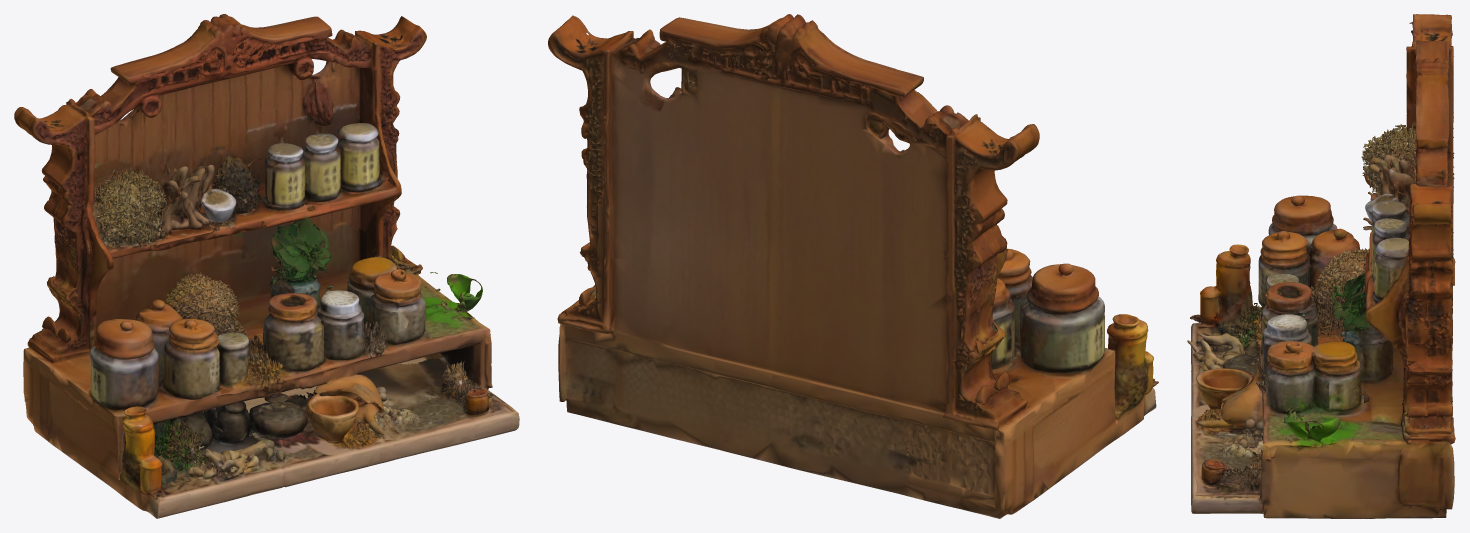
File: bq_apothecary.hd.glb
3 views of the same model, side by side, from view 1: azimuth 30°, elevation 25°; view 2: azimuth 150°, elevation 25°; view 3: azimuth 270°, elevation 25° (orthographic). The views are drawn at different scales.
Size of the model in its own units: 2 by 1.78 by 1.18.
Materials: 1 (1 with a texture image).
